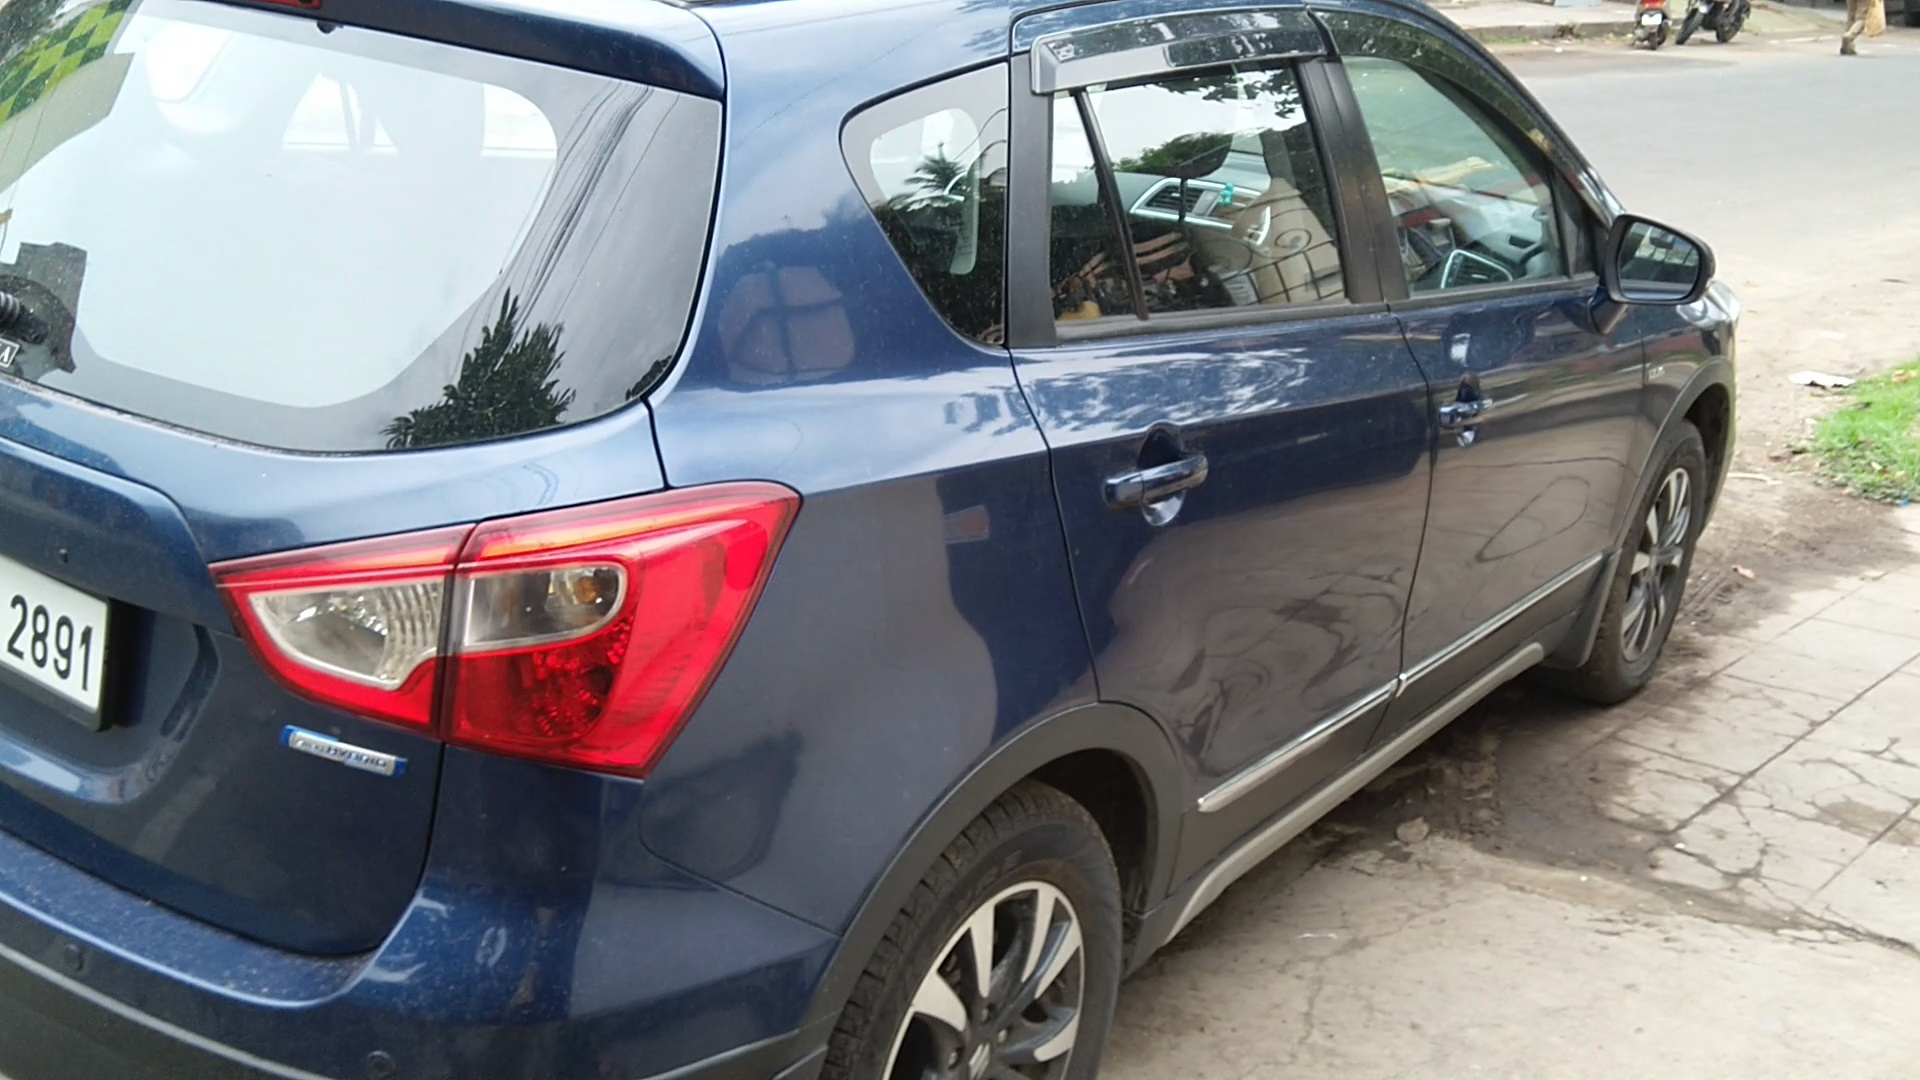alloy_wheel: (1600, 427, 1720, 702)
shvs: (266, 707, 421, 796)
